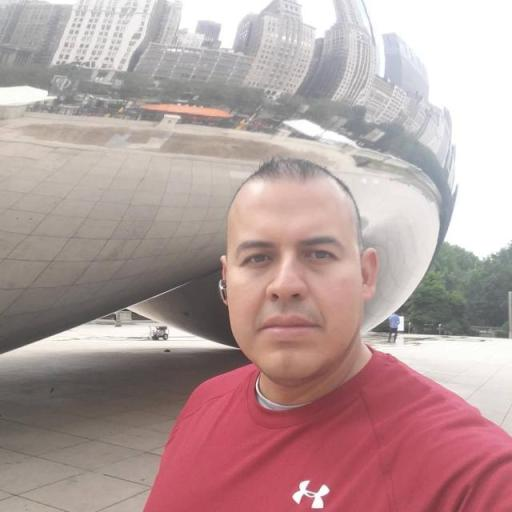Under Armour: (289, 476, 332, 510)
